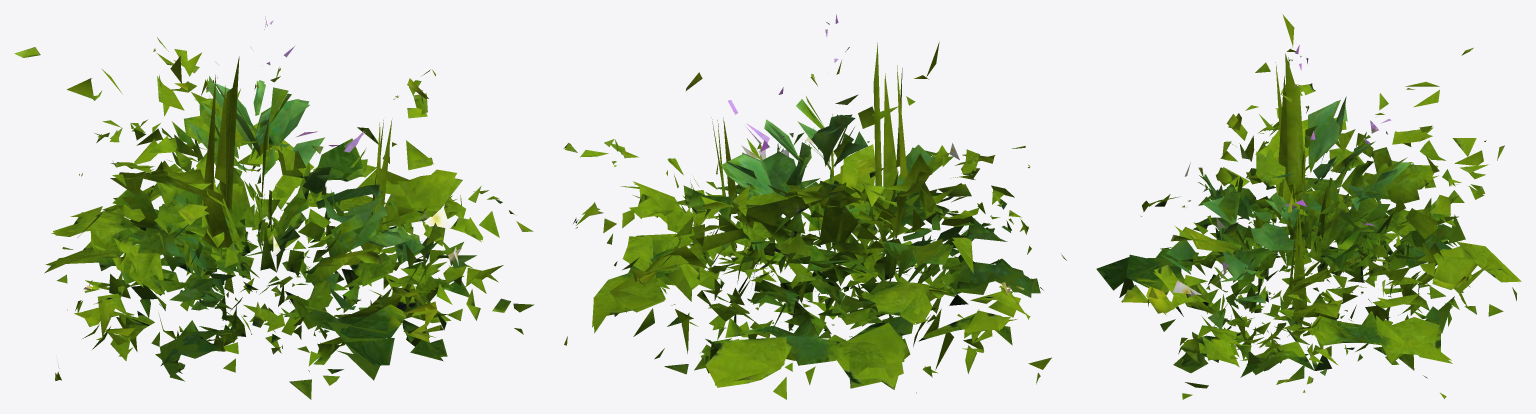
The model's file is flowers.glb.
3 views of the same model, side by side, from view 1: azimuth 30°, elevation 25°; view 2: azimuth 150°, elevation 25°; view 3: azimuth 270°, elevation 25° (orthographic). The views are drawn at different scales.
Parts seen in each view (by area): view 1: Woodland Flowers; view 2: Woodland Flowers; view 3: Woodland Flowers.
Boxes of the visible parts, x1,y1,x2,y2 form: Woodland Flowers: (14,16,534,399); Woodland Flowers: (563,14,1066,399); Woodland Flowers: (1096,14,1521,399).
Bounding box in the file's own units: 0.9004 × 0.5836 × 0.7999.
1 material, 1 textured.
